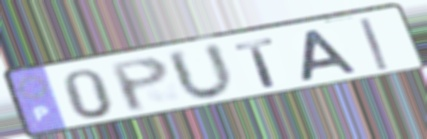0: (60, 68, 117, 120)
A: (298, 27, 361, 84)
I: (356, 16, 392, 72)
P: (106, 55, 172, 115)
T: (231, 35, 281, 90)
U: (163, 40, 238, 103)
